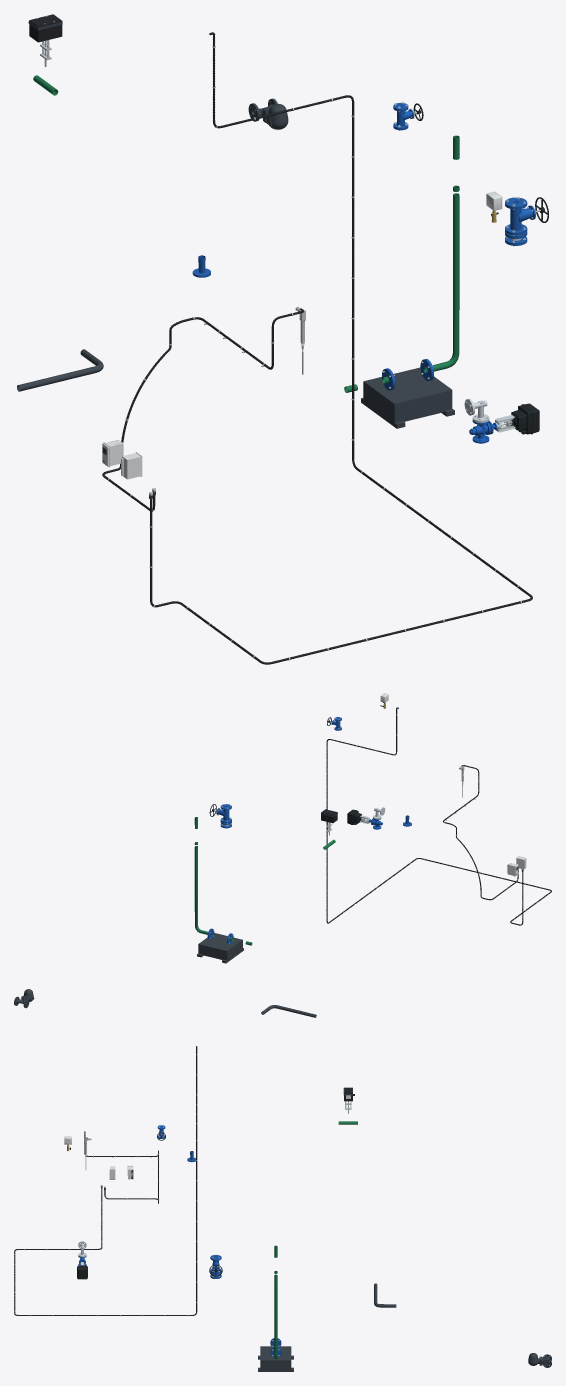
3 views of the same model, one above another, from view 1: azimuth 30°, elevation 25°; view 2: azimuth 150°, elevation 25°; view 3: azimuth 270°, elevation 25° (orthographic). The views are drawn at different scales.
Visible parts, largest first — view 1: gpz_drive_cable / black, pump_branch_2 / dark, pump_branch_2 / green, bcv925 / bcv925_0.npz, wiring_lp200 / black, bottom_bypass_before / dark, pump_out_valve_1 / blue; view 2: gpz_drive_cable / black, pump_branch_2 / dark, pump_branch_2 / green; view 3: gpz_drive_cable / black, pump_branch_2 / dark, pump_branch_2 / green.
Part boxes in pixels (x1,y1,x2,y2): gpz_drive_cable / black: (150, 32, 532, 664); pump_branch_2 / dark: (361, 367, 454, 428); pump_branch_2 / green: (344, 135, 459, 392); bcv925 / bcv925_0.npz: (469, 403, 539, 443); wiring_lp200 / black: (102, 308, 304, 511); bottom_bypass_before / dark: (17, 349, 103, 391); pump_out_valve_1 / blue: (505, 197, 535, 235); gpz_drive_cable / black: (326, 707, 551, 925); pump_branch_2 / dark: (197, 933, 243, 963); pump_branch_2 / green: (194, 817, 252, 945); gpz_drive_cable / black: (14, 1046, 197, 1315); pump_branch_2 / dark: (258, 1346, 293, 1371); pump_branch_2 / green: (274, 1245, 277, 1359).
Bounding box in the file's own units: 4.25 × 3.47 × 6.74.
